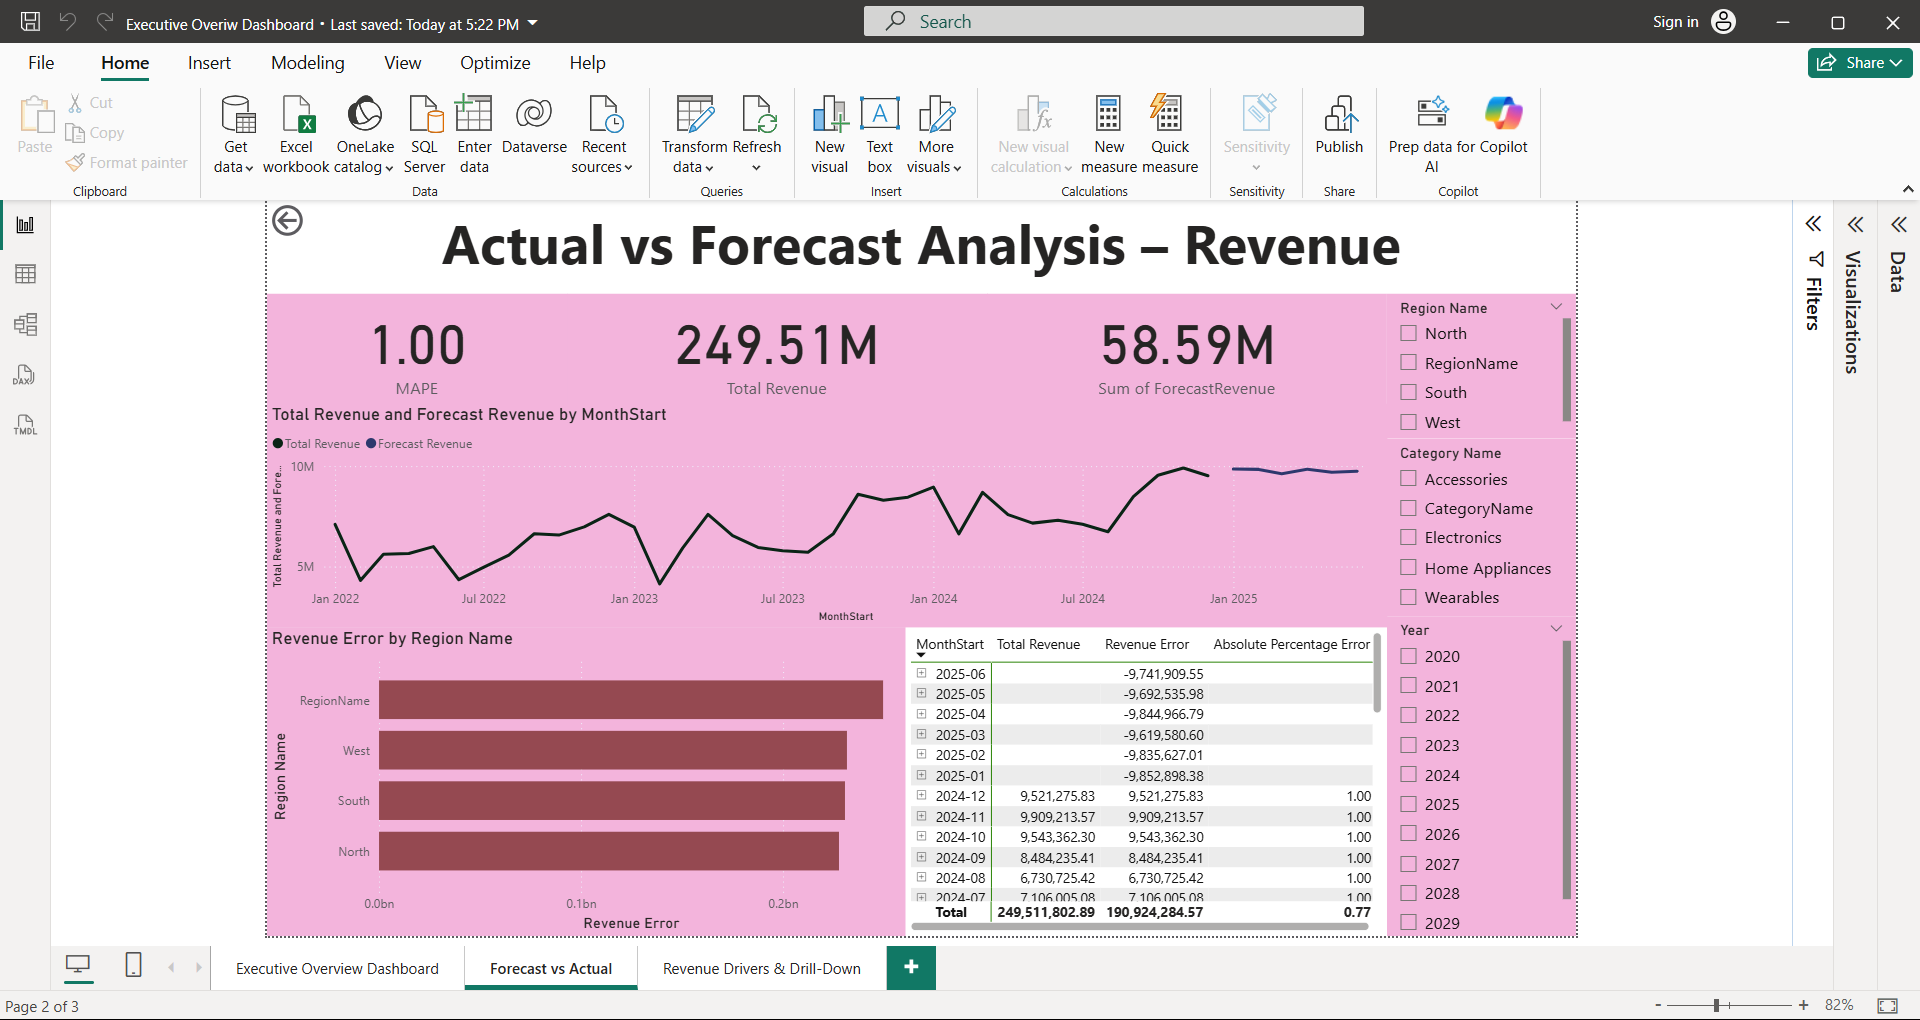

The page's visual inventory and layout, read from the dashboard file:
{"tool":"powerbi","page":{"name":"Forecast vs Actual","canvas":[1280,720],"ordinal":1},"visuals":[{"type":"lineChart","fields":{"Y":["FactSales.Total Revenue","FactSales.Forecast Revenue"],"Category":["DimDate.MonthStart"]},"box":[0,199.3,1095.7,218.9],"z":0},{"type":"textbox","box":[0,0,1280.3,91.7],"z":1000},{"type":"card","fields":{"Values":["FactSales.Total Revenue"]},"box":[293.5,91.7,410.9,107.6],"z":2000},{"type":"actionButton","box":[0,0,100,40],"z":3000},{"type":"card","fields":{"Values":["Sum(FactForecast.ForecastRevenue)"]},"box":[704.4,91.7,391.3,107.6],"z":4000},{"type":"card","fields":{"Values":["FactSales.MAPE"]},"box":[0,91.7,293.5,107.6],"z":5000},{"type":"clusteredBarChart","fields":{"Y":["FactSales.Revenue Error"],"Category":["DimRegion.Region Name"]},"box":[0,418.2,624.9,302],"z":6000},{"type":"pivotTable","fields":{"Rows":["DimDate.MonthStart","DimRegion.Region Name","DimCategory.Category Name"],"Values":["FactSales.Total Revenue","FactSales.Revenue Error","FactSales.Absolute Percentage Error"]},"box":[624.9,418.2,470.8,302],"z":7000},{"type":"slicer","fields":{"Values":["DimRegion.Region Name"]},"box":[1095.7,91.7,184.6,141.8],"z":8000},{"type":"slicer","fields":{"Values":["DimCategory.Category Name"]},"box":[1095.7,233.6,184.6,173.6],"z":9000},{"type":"slicer","fields":{"Values":["DimDate.Date.Variation.Date Hierarchy.Year"]},"box":[1095.7,407.2,184.6,313],"z":10000}]}

Visuals, with their boxes on the page's 1280x720 design canvas (x1, y1, x2, y2). These are canvas units, not pixel positions in the 1920x1020 screenshot, which may show the page scaled, cropped or inside an application window:
lineChart - FactSales.Total Revenue x FactSales.Forecast Revenue: 0, 199, 1096, 418
textbox: 0, 0, 1280, 92
card - FactSales.Total Revenue: 294, 92, 704, 199
actionButton: 0, 0, 100, 40
card - Sum(FactForecast.ForecastRevenue): 704, 92, 1096, 199
card - FactSales.MAPE: 0, 92, 294, 199
clusteredBarChart - FactSales.Revenue Error x DimRegion.Region Name: 0, 418, 625, 720
pivotTable - DimDate.MonthStart x DimRegion.Region Name: 625, 418, 1096, 720
slicer - DimRegion.Region Name: 1096, 92, 1280, 234
slicer - DimCategory.Category Name: 1096, 234, 1280, 407
slicer - DimDate.Date.Variation.Date Hierarchy.Year: 1096, 407, 1280, 720
